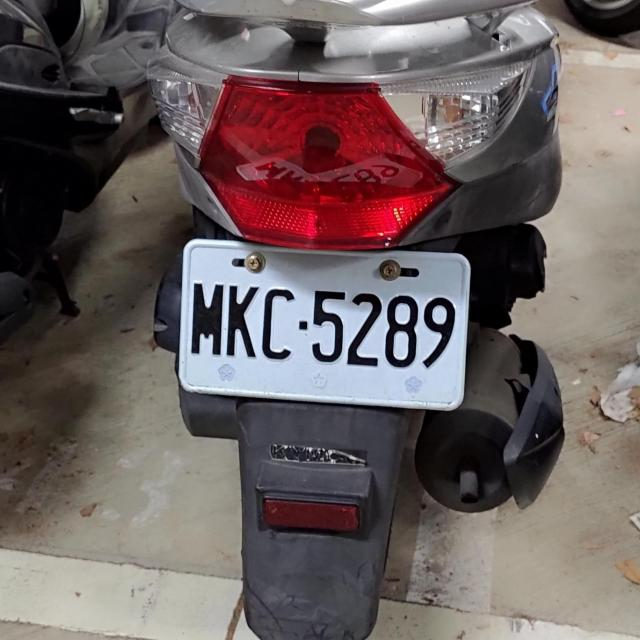W: (175, 233, 475, 413)
